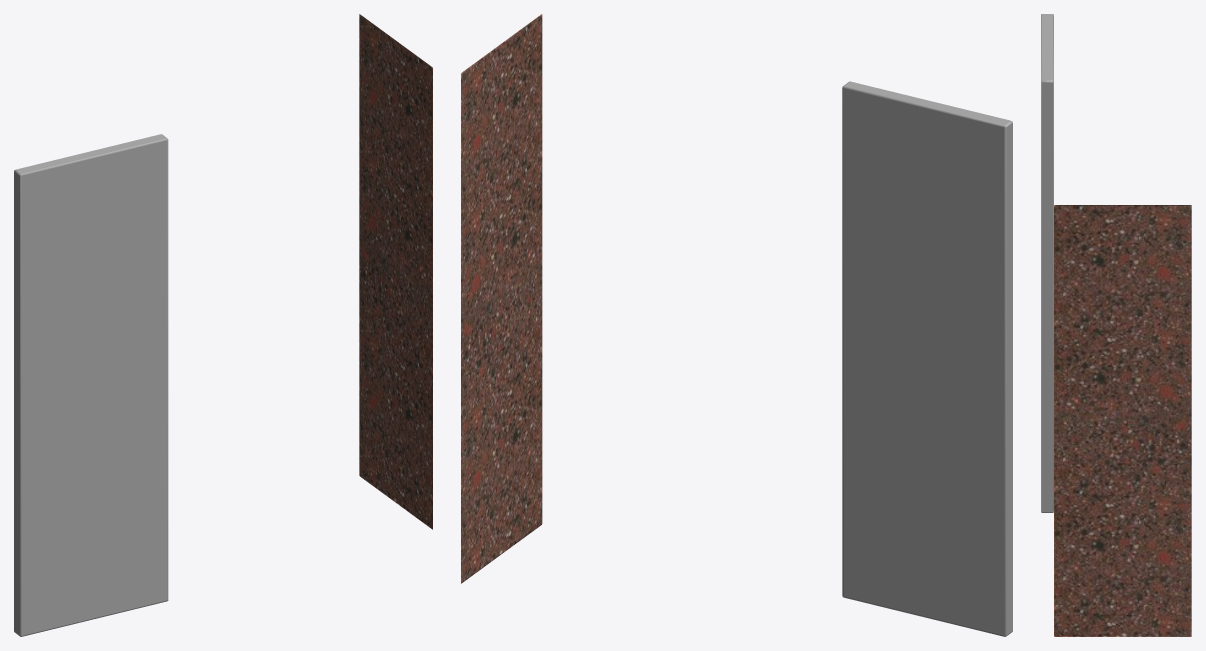
3 renders of one model, left to right at view 1: azimuth 30°, elevation 25°; view 2: azimuth 150°, elevation 25°; view 3: azimuth 270°, elevation 25°, orthographic. The views are drawn at different scales.
Parts seen in each view (by area): view 1: part1:cabinet door 1; view 2: part1:cabinet door 1; view 3: part1:cabinet door 1.
Part boxes in pixels (<box>): part1:cabinet door 1: <box>14,14,432,636</box>; part1:cabinet door 1: <box>461,14,1012,636</box>; part1:cabinet door 1: <box>1041,14,1191,636</box>.
Size of the model in its own units: 0.7207 by 0.76 by 0.2395.
Materials: 2 (1 with a texture image).
